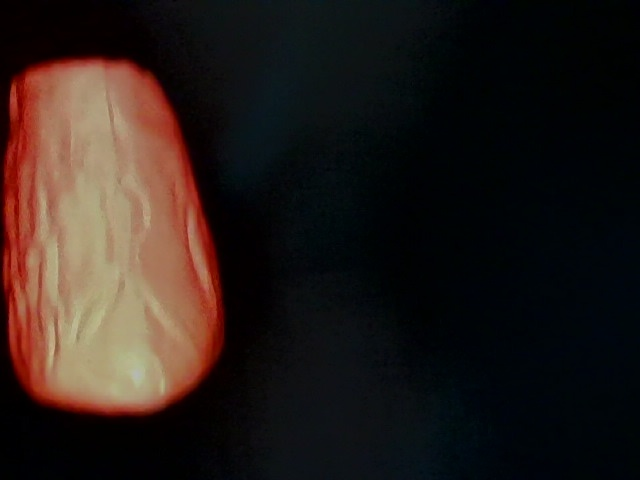YHLJ: (498, 252, 612, 352)
